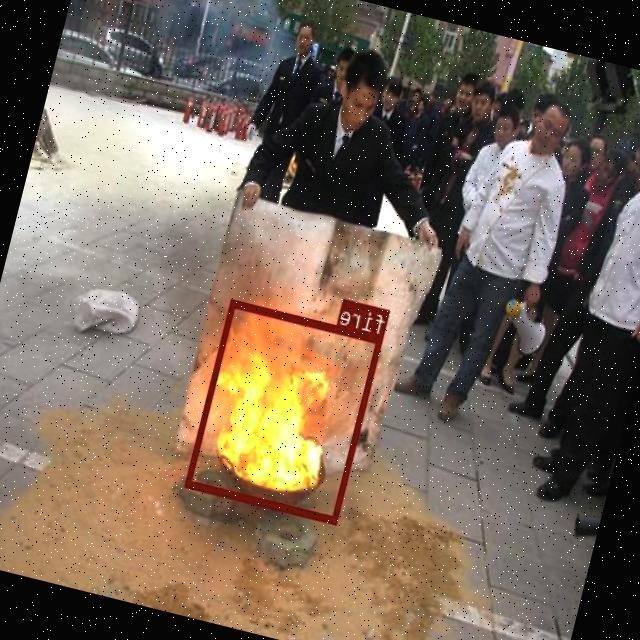fire: (186, 297, 384, 524)
